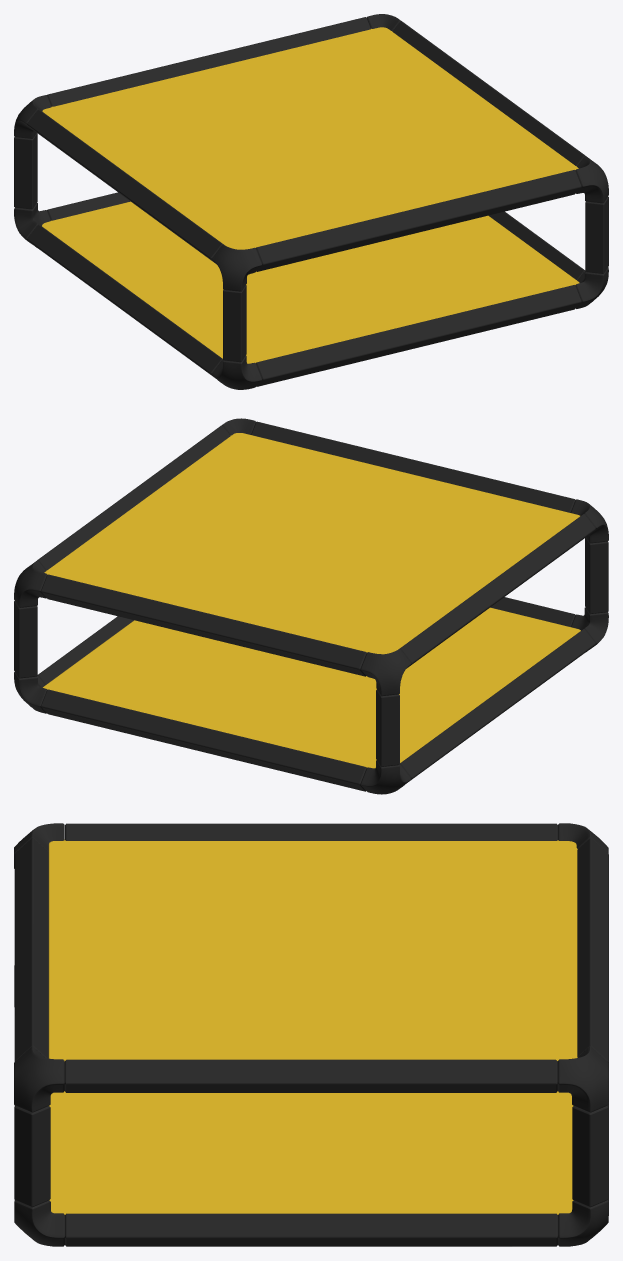
3 renders of one model, top to bottom at view 1: azimuth 30°, elevation 25°; view 2: azimuth 150°, elevation 25°; view 3: azimuth 270°, elevation 25°, orthographic. The views are drawn at different scales.
Parts seen in each view (by area): view 1: 374x374x79; view 2: 374x374x79; view 3: 374x374x79.
Part boxes in pixels (left/top/right/bottom): 374x374x79: left=14, top=14, right=608, bottom=389; 374x374x79: left=14, top=418, right=608, bottom=794; 374x374x79: left=14, top=823, right=608, bottom=1246.
Bounding box in the file's own units: 0.4517 × 0.1567 × 0.4513.
